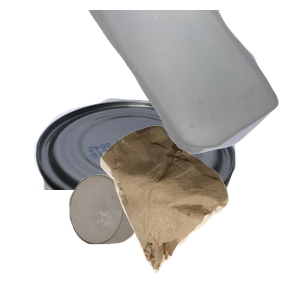glass: (67, 172, 229, 300)
metal: (16, 96, 244, 276)
plastic: (84, 10, 300, 157)
trash: (98, 123, 300, 300)
